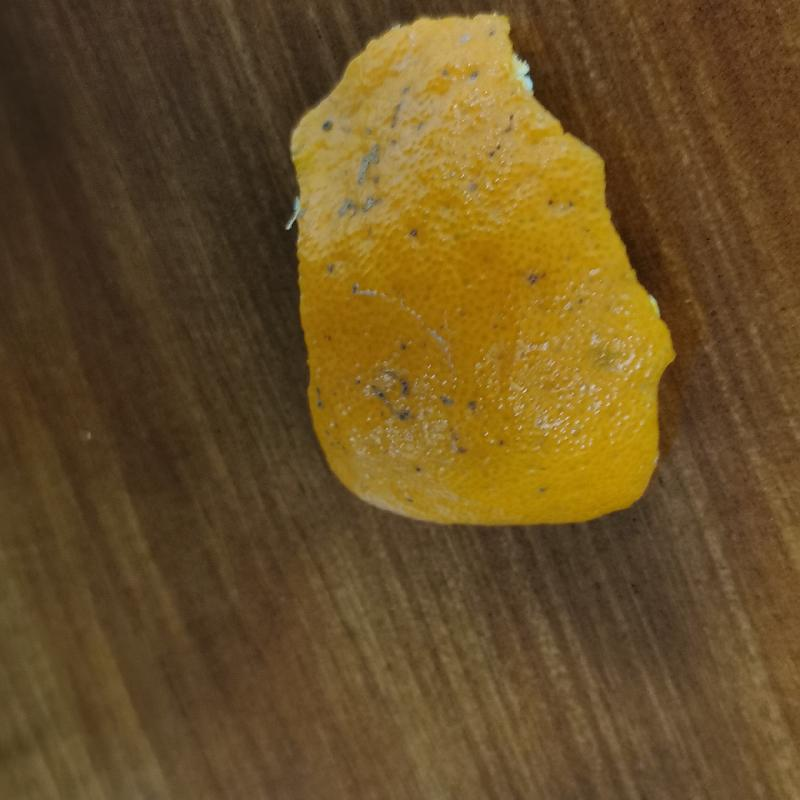orange: (288, 13, 672, 528)
